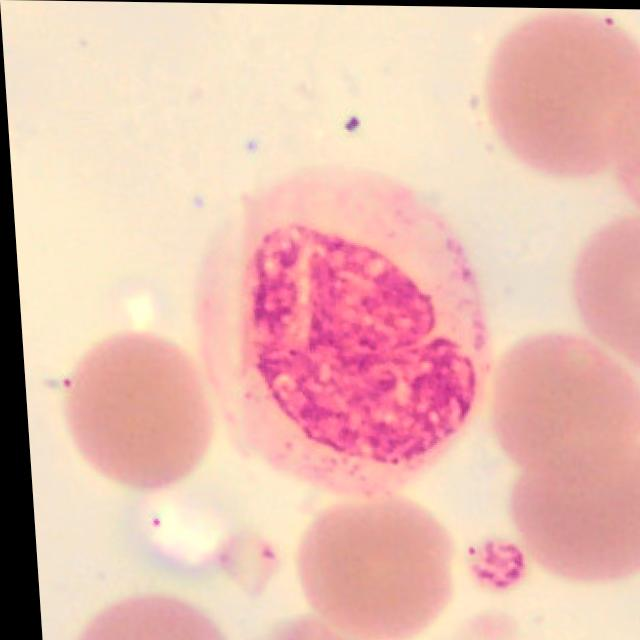Mielocito: (192, 164, 489, 498)
